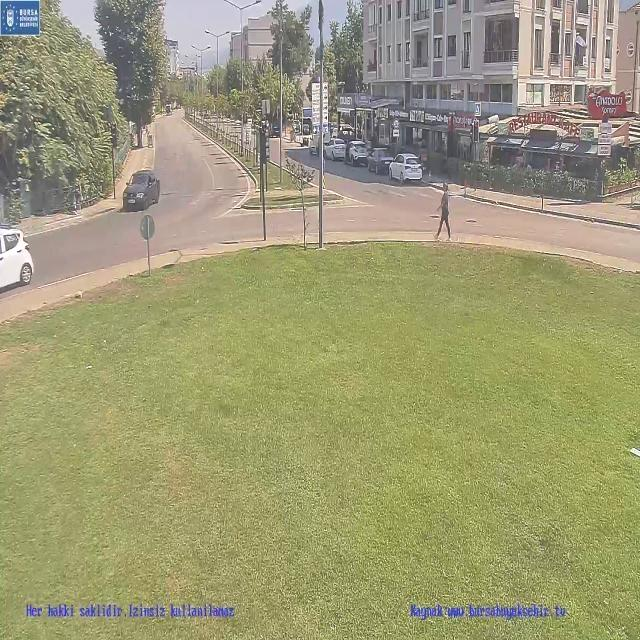Car: (0, 231, 31, 287), (127, 175, 152, 210), (394, 155, 417, 180), (348, 143, 368, 164), (370, 150, 390, 169), (326, 139, 344, 158)
